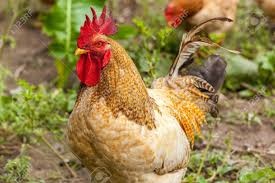chicken: (54, 9, 236, 181)
